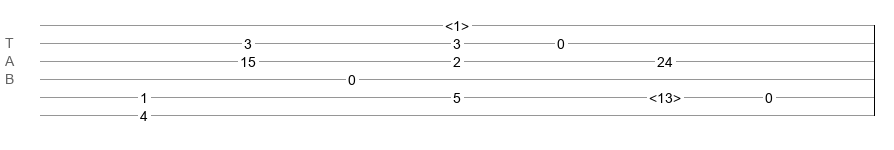0: (348, 72, 356, 82), (557, 36, 565, 46), (765, 90, 773, 100)
1: (140, 90, 148, 100)
15: (240, 54, 256, 64)
2: (453, 54, 461, 64)
24: (657, 54, 673, 64)
3: (244, 36, 252, 46), (453, 36, 461, 46)
4: (140, 108, 148, 118)
5: (453, 90, 461, 100)
harmonic: (649, 90, 681, 100), (445, 18, 469, 28)
